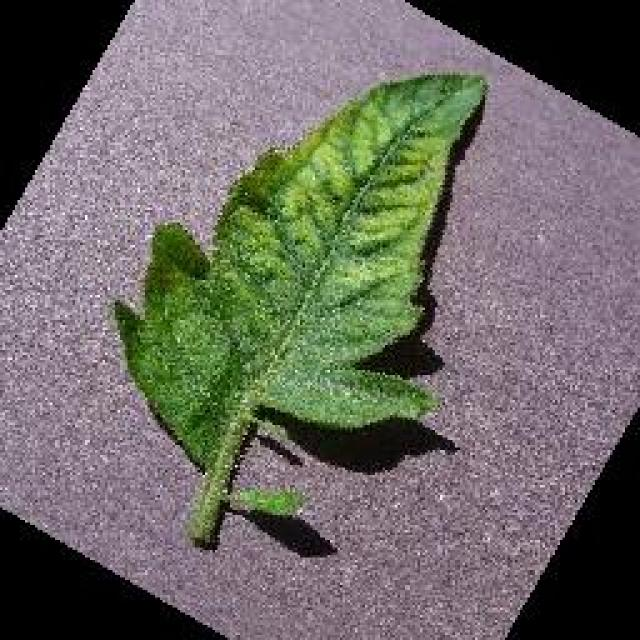Tomato___Tomato_mosaic_virus: (115, 72, 482, 542)
